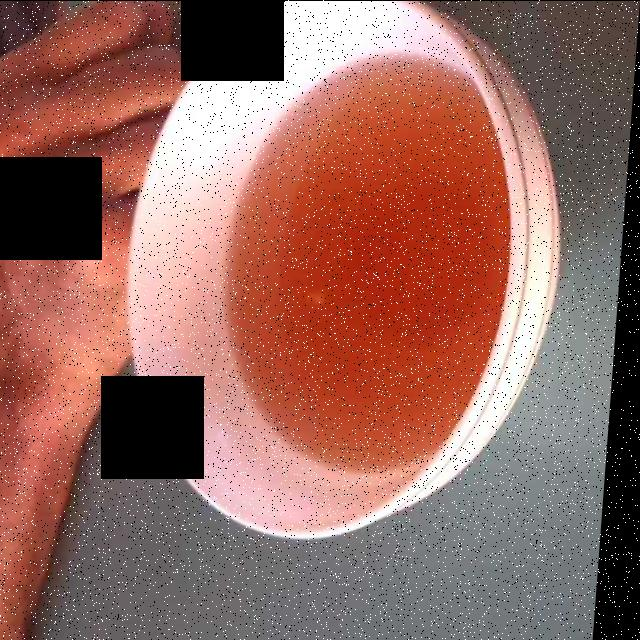tea: (230, 62, 509, 479)
